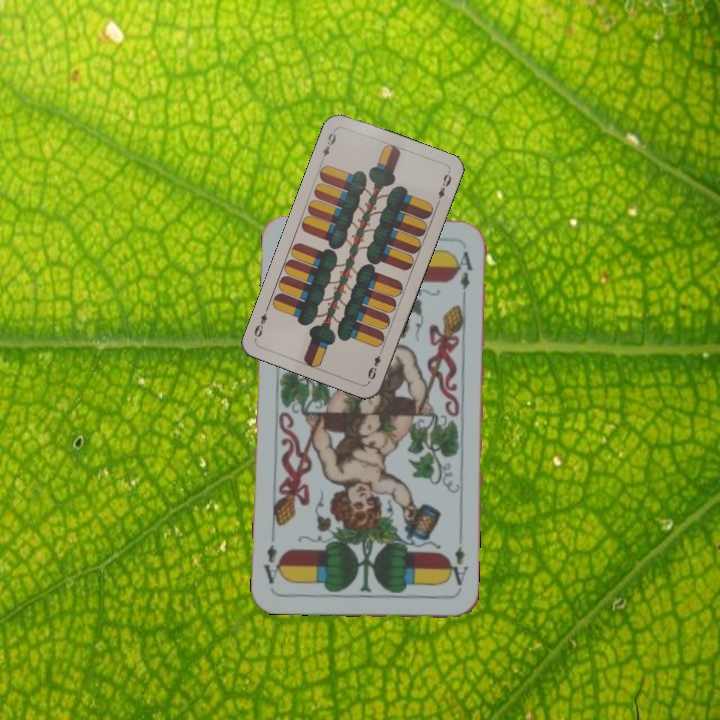E9: (317, 126, 339, 164), (364, 345, 385, 382)
EA: (443, 542, 471, 593)
